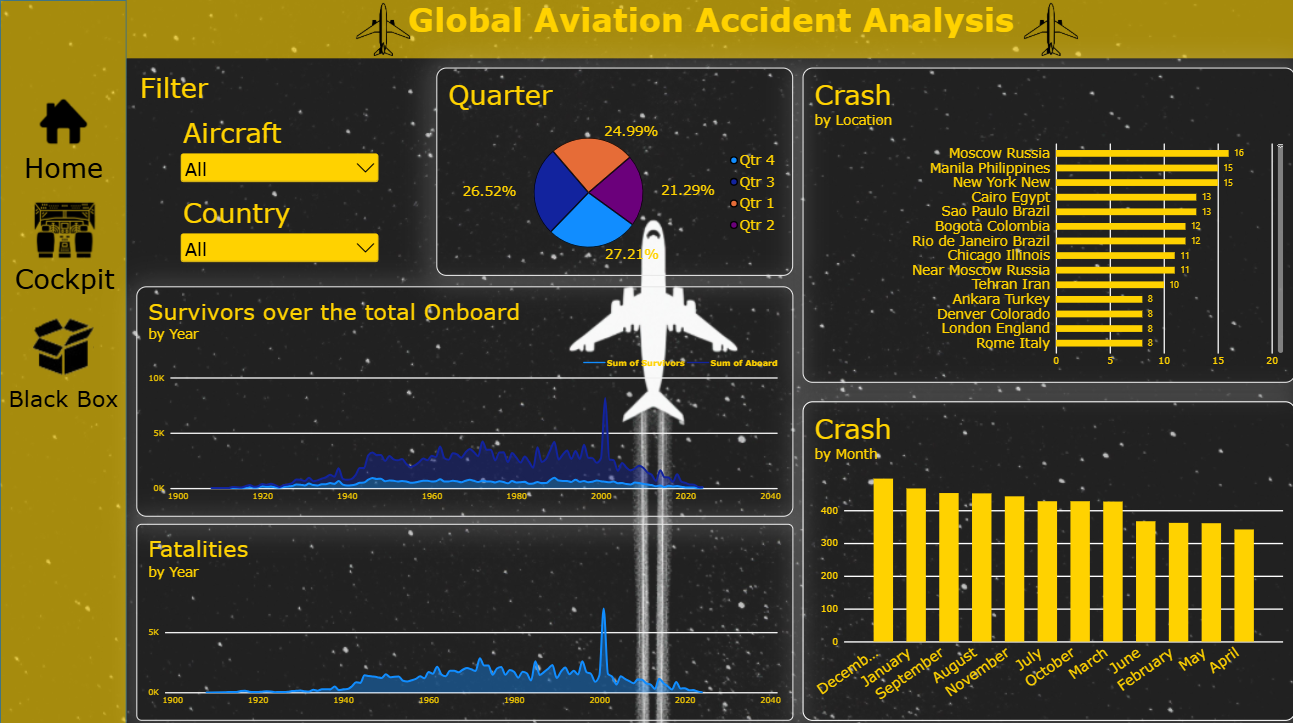

Layout of this report page (visuals, bound fields, positions):
{"tool":"powerbi","page":{"name":"Fatility","canvas":[1920,1080],"ordinal":1},"visuals":[{"type":"textbox","box":[187.3,0,1733.1,86.4],"z":0},{"type":"barChart","title":"Crash","fields":{"Category":["Air_Crash_Data.Location"],"Y":["CountNonNull(Air_Crash_Data.Aircraft)"]},"box":[1189.7,100.9,730.7,467.2],"z":1000},{"type":"clusteredColumnChart","title":"Crash","fields":{"Category":["Air_Crash_Data.Month"],"Y":["CountNonNull(Air_Crash_Data.Aircraft)"]},"box":[1188.9,594.4,730.7,473.4],"z":2000},{"type":"pieChart","title":"Quarter","fields":{"Category":["Air_Crash_Data.Quarter"],"Y":["CountNonNull(Air_Crash_Data.Quarter)"]},"box":[646.3,100.9,529,308.7],"z":3000},{"type":"areaChart","title":"Fatalities","fields":{"Category":["Air_Crash_Data.Year"],"Y":["Sum(Air_Crash_Data.TotalFatalities)"]},"box":[201.7,776,973.6,292.3],"z":4000},{"type":"stackedAreaChart","title":"Survivors over the total Onboard","fields":{"Category":["Air_Crash_Data.Year"],"Y":["Sum(Air_Crash_Data.Survivors)","Sum(Air_Crash_Data.Aboard)"]},"box":[201.7,424,973.6,341.7],"z":5000},{"type":"shape","box":[0,0,187.3,1080.6],"z":6000},{"type":"slicer","fields":{"Values":["Air_Crash_Data.Country/Region"]},"box":[263.5,290.2,302.6,102.9],"z":7000},{"type":"slicer","fields":{"Values":["Air_Crash_Data.Aircraft"]},"box":[263.5,172.9,302.6,105],"z":8000},{"type":"shape","box":[201.7,100.9,154.4,72],"z":9000},{"type":"image","box":[494,0,144.1,86.4],"z":11000},{"type":"image","box":[1473.8,0,162.6,86.4],"z":12000},{"type":"actionButton","box":[0,125.6,188.2,153.8],"z":13000},{"type":"actionButton","box":[2.1,290.2,188.2,153.8],"z":14000},{"type":"actionButton","box":[0,465.2,188.2,153.8],"z":15000}]}

Visuals, with their boxes in screenshot pixels (x1, y1, x2, y2), scaled from the page's 1920x1080 canvas onto the 1293x723 screenshot:
textbox: [126, 0, 1292, 58]
"Crash" barChart: [801, 68, 1292, 380]
"Crash" clusteredColumnChart: [801, 398, 1292, 715]
"Quarter" pieChart: [435, 68, 791, 274]
"Fatalities" areaChart: [136, 519, 791, 715]
"Survivors over the total Onboard" stackedAreaChart: [136, 284, 791, 513]
shape: [0, 0, 126, 722]
slicer - Air_Crash_Data.Country/Region: [177, 194, 381, 263]
slicer - Air_Crash_Data.Aircraft: [177, 116, 381, 186]
shape: [136, 68, 240, 116]
image: [333, 0, 430, 58]
image: [993, 0, 1102, 58]
actionButton: [0, 84, 127, 187]
actionButton: [1, 194, 128, 297]
actionButton: [0, 311, 127, 414]
